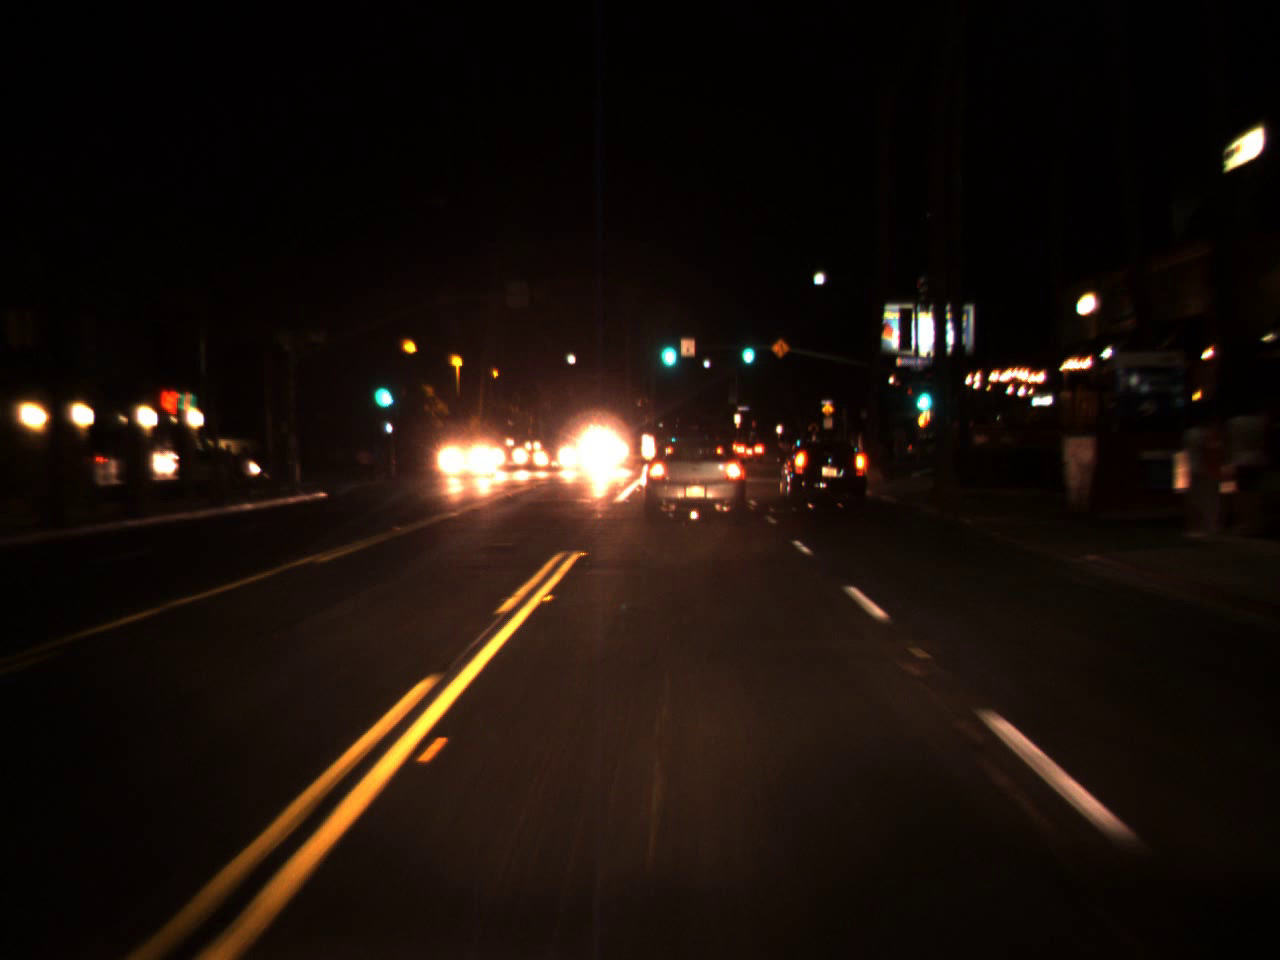go: (368, 363, 395, 414), (655, 322, 680, 373), (910, 370, 935, 418), (739, 332, 757, 365)
